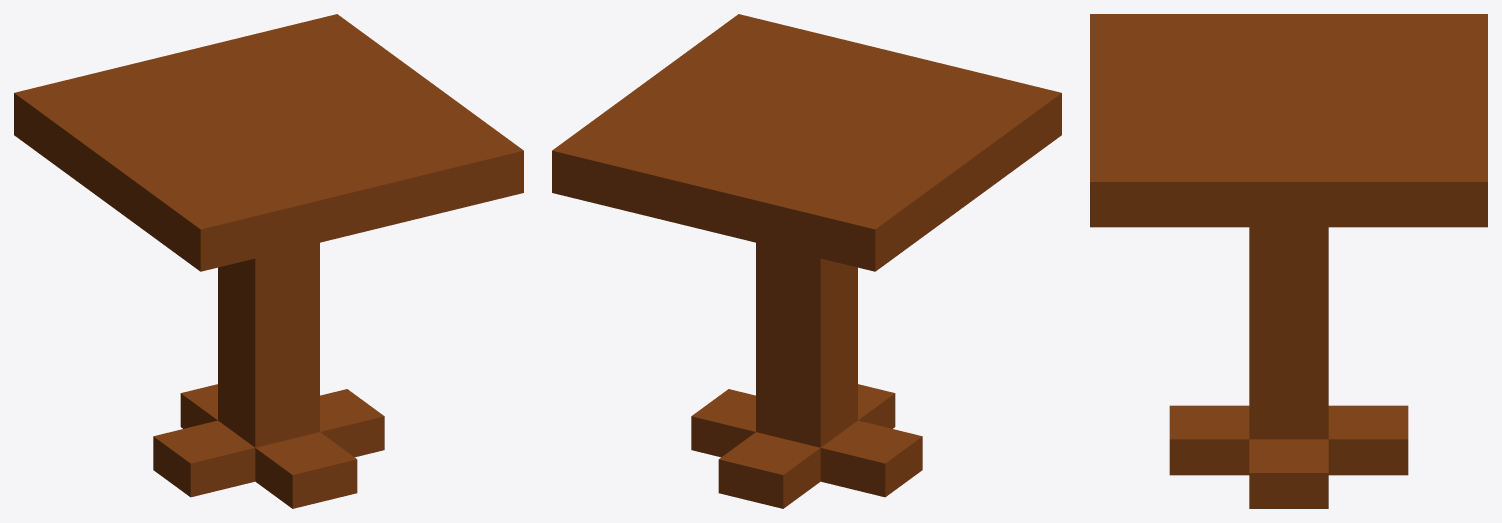
File: Small Table 1.fbx
3 renders of one model, left to right at view 1: azimuth 30°, elevation 25°; view 2: azimuth 150°, elevation 25°; view 3: azimuth 270°, elevation 25°, orthographic. The views are drawn at different scales.
Visible parts, largest first — view 1: Small Table 1; view 2: Small Table 1; view 3: Small Table 1.
Boxes of the visible parts, left/top/right/bottom form: Small Table 1: left=14, top=14, right=523, bottom=508; Small Table 1: left=552, top=14, right=1061, bottom=508; Small Table 1: left=1090, top=14, right=1487, bottom=508.
Bounding box in the file's own units: 200 × 200 × 200.
